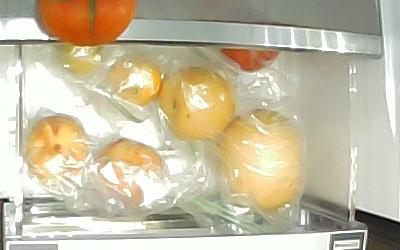peach_vinyl: (95, 136, 164, 206), (23, 114, 87, 181)
pear_vinyl: (214, 107, 302, 210), (156, 65, 235, 141)
tangerine_vinyl: (107, 62, 162, 105), (57, 43, 104, 76)
tomato_vinyl: (219, 47, 281, 72)
